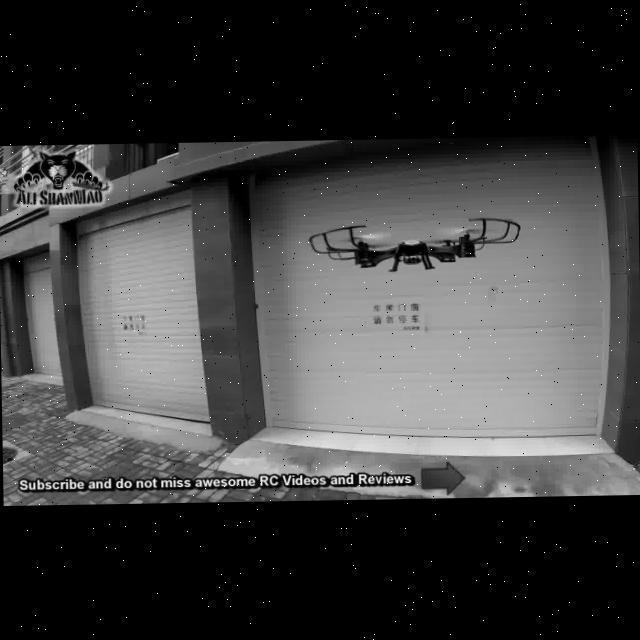Drons: (299, 206, 524, 280)
